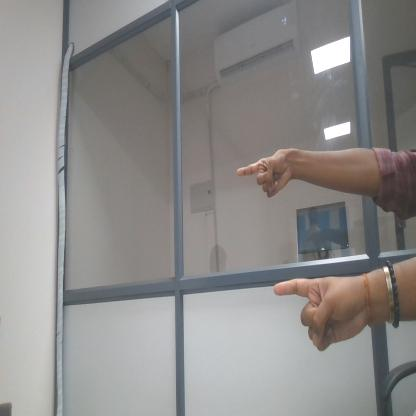Right: (270, 274, 359, 359), (236, 144, 291, 199)
